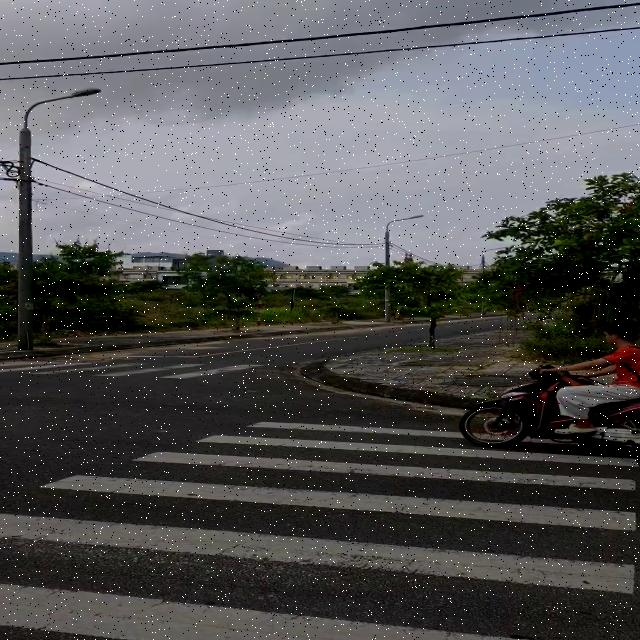no_helmet: (604, 322, 638, 339)
